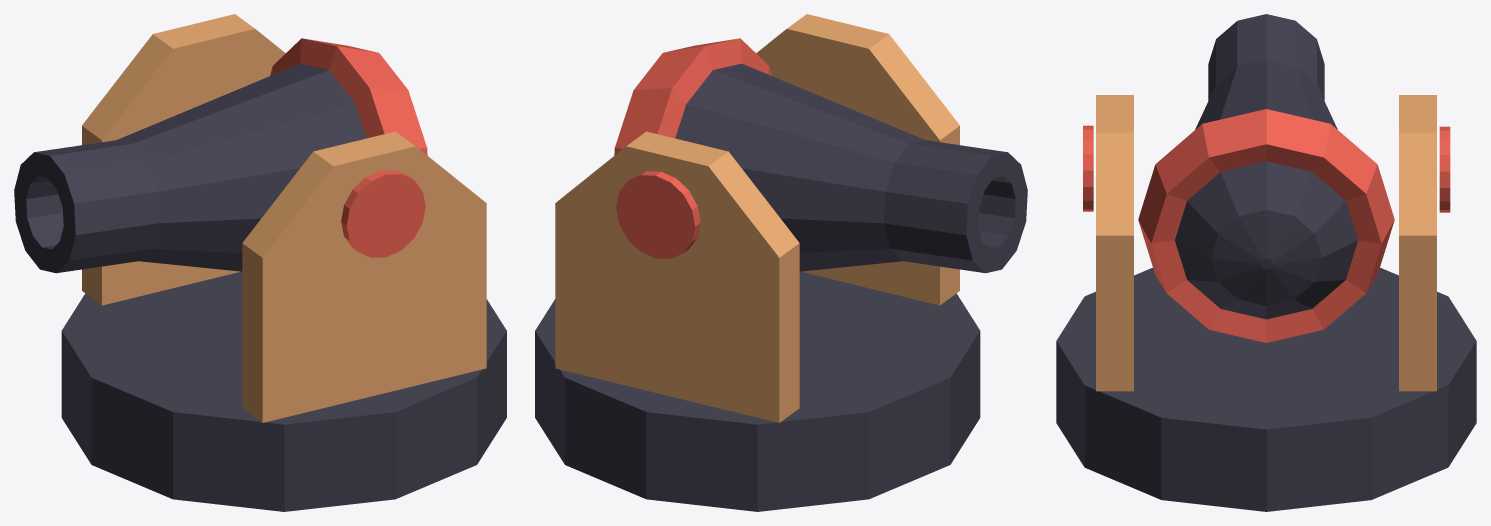
The model's file is cannon_red.glb.
3 views of the same model, side by side, from view 1: azimuth 30°, elevation 25°; view 2: azimuth 150°, elevation 25°; view 3: azimuth 270°, elevation 25° (orthographic). The views are drawn at different scales.
Visible parts, largest first — view 1: Circle.001, Circle.002, Cylinder, Circle; view 2: Circle.001, Circle.002, Cylinder, Circle.003; view 3: Circle.002, Cylinder, Circle.001, Circle.003, Circle.
Boxes of the visible parts, x1,y1,x2,y2 form: Circle.001: (82,14,486,422); Circle.002: (61,271,506,511); Cylinder: (14,38,427,273); Circle: (341,170,425,257); Circle.001: (555,14,959,422); Circle.002: (535,271,980,511); Cylinder: (614,38,1027,273); Circle.003: (616,171,700,258); Circle.002: (1056,267,1476,511); Cylinder: (1138,14,1394,342); Circle.001: (1096,95,1436,391); Circle.003: (1439,126,1450,212); Circle: (1083,125,1093,211).
Bounding box in the file's own units: 4.94 × 3.88 × 4.36.
